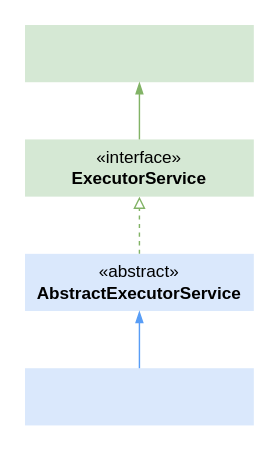
The diagram is 277 pixels wide and 449 high, and some of its shapes have lost their labels. The shapes that lost their labels are listed below. From the top down, each one's box as (x1, y1, x2, y2) in pixels, then its label:
(24, 24, 253, 82): «interface» Executor
(24, 368, 253, 425): ThreadPoolExecutor
